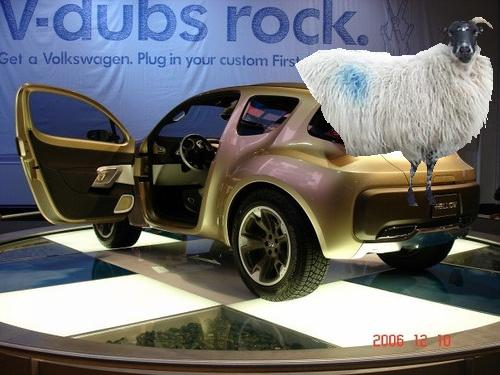tampered: (296, 18, 493, 206)
